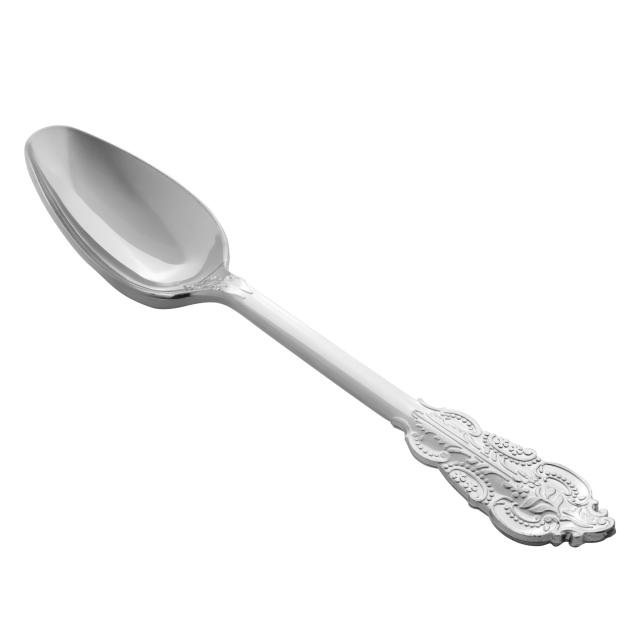spoon: (16, 100, 624, 563)
